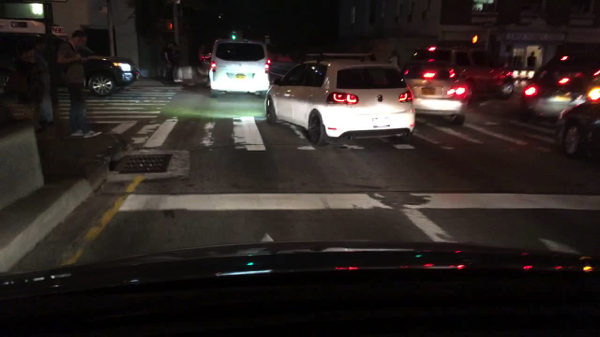car: (264, 47, 419, 146), (0, 37, 141, 98), (516, 37, 598, 124), (412, 48, 513, 100), (399, 57, 471, 126), (206, 34, 272, 100), (549, 82, 597, 169), (187, 41, 222, 88)
person: (55, 30, 103, 139), (20, 37, 48, 134), (162, 41, 182, 83), (526, 51, 536, 70), (389, 50, 398, 67)
traffic light: (469, 34, 479, 47), (164, 19, 173, 32), (230, 32, 237, 42)
